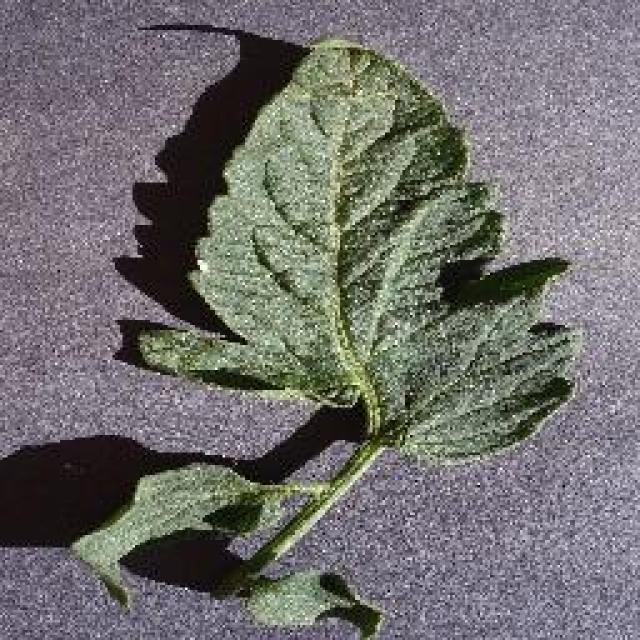Healthy: (55, 18, 590, 638)
